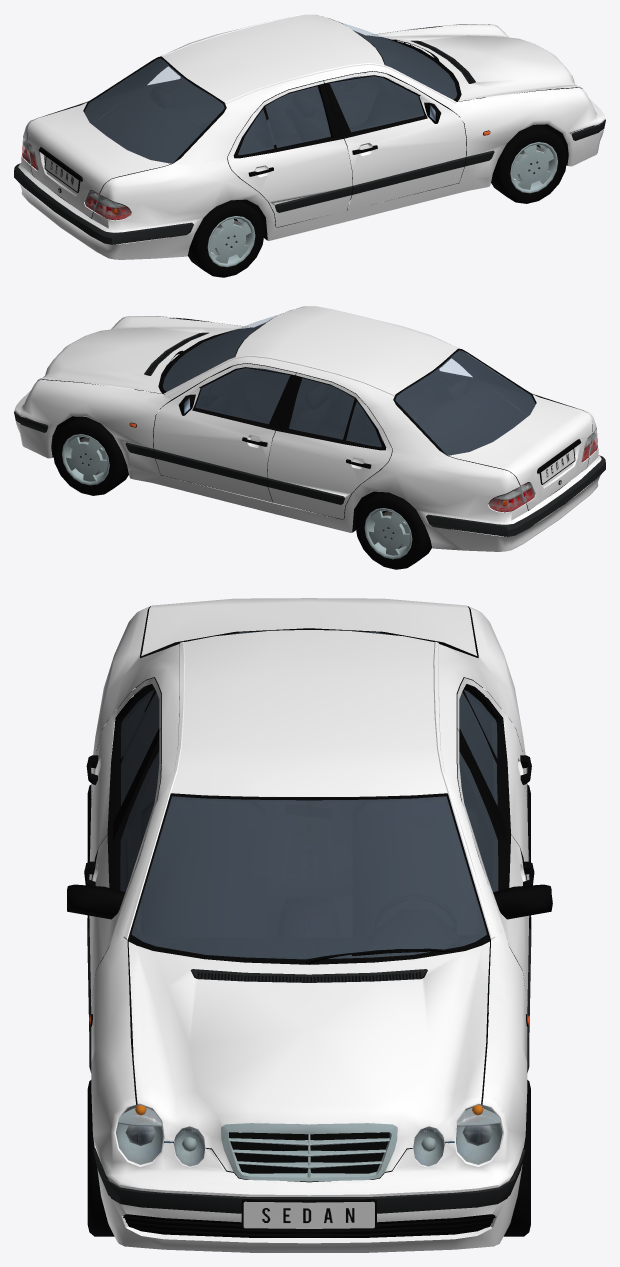
File: car-sedan.c04d8292.glb
3 renders of one model, top to bottom at view 1: azimuth 30°, elevation 25°; view 2: azimuth 150°, elevation 25°; view 3: azimuth 270°, elevation 25°, orthographic. The views are drawn at different scales.
Visible parts, largest first — view 1: node_SEDAN_17556_8, node_matte_plastic_-1044_18, node_WINDOWS_-1052_20, node_FR_tyre_-1108_5, node_RR_tyre_-1112_15, node_RR_WHEEL_-1056_21, node_FR_WHEEL_-1074_1, node_R_LAMPS_-1046_19; view 2: node_SEDAN_17556_8, node_matte_plastic_-1044_18, node_WINDOWS_-1052_20, node_FL_tyre_-1088_14, node_RL_tyre_-1092_9, node_RL_WHEEL_-1066_10, node_FL_WHEEL_-1070_13, node_R_LAMPS_-1046_19; view 3: node_SEDAN_17556_8, node_matte_plastic_-1044_18, node_WINDOWS_-1052_20, node_F_LAMPS_-1038_4, node_FR_tyre_-1108_5, node_FL_tyre_-1088_14.
Boxes of the visible parts, x1,y1,x2,y2 form: node_SEDAN_17556_8: (18, 14, 605, 259); node_matte_plastic_-1044_18: (14, 18, 605, 244); node_WINDOWS_-1052_20: (84, 23, 456, 163); node_FR_tyre_-1108_5: (491, 124, 567, 203); node_RR_tyre_-1112_15: (187, 200, 264, 277); node_RR_WHEEL_-1056_21: (207, 216, 255, 267); node_FR_WHEEL_-1074_1: (510, 142, 557, 193); node_R_LAMPS_-1046_19: (22, 137, 130, 219); node_SEDAN_17556_8: (14, 306, 601, 551); node_matte_plastic_-1044_18: (14, 310, 605, 536); node_WINDOWS_-1052_20: (163, 314, 535, 455); node_FL_tyre_-1088_14: (52, 416, 128, 495); node_RL_tyre_-1092_9: (355, 492, 431, 569); node_RL_WHEEL_-1066_10: (364, 508, 412, 559); node_FL_WHEEL_-1070_13: (62, 434, 109, 485); node_R_LAMPS_-1046_19: (489, 429, 597, 511); node_SEDAN_17556_8: (89, 598, 529, 1252); node_matte_plastic_-1044_18: (67, 606, 552, 1237); node_WINDOWS_-1052_20: (120, 632, 497, 958); node_F_LAMPS_-1038_4: (116, 1104, 501, 1165); node_FR_tyre_-1108_5: (87, 1077, 134, 1236); node_FL_tyre_-1088_14: (484, 1077, 530, 1236).
Bounding box in the file's own units: 4.83 × 1.46 × 1.97.
Materials: 4 (4 with a texture image).
